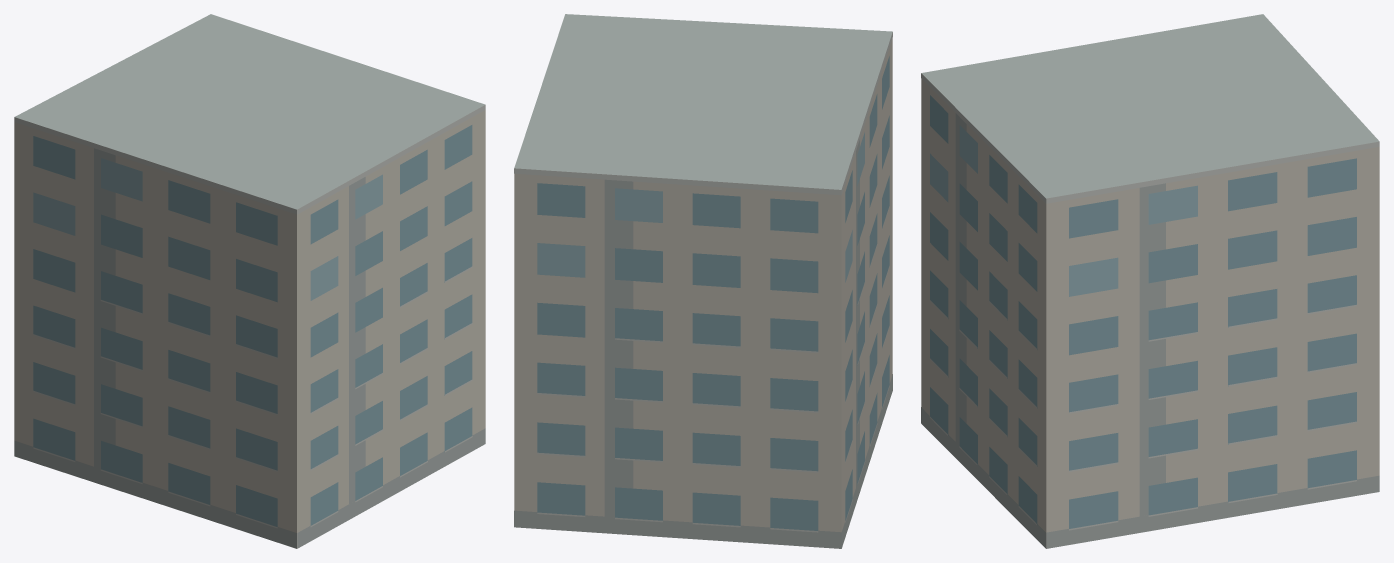
File: survey-upis-32965835.glb
3 renders of one model, left to right at view 1: azimuth 30°, elevation 25°; view 2: azimuth 150°, elevation 25°; view 3: azimuth 270°, elevation 25°, orthographic. The views are drawn at different scales.
Visible parts, largest first — view 1: survey-upis-32965835.tmp; view 2: survey-upis-32965835.tmp; view 3: survey-upis-32965835.tmp.
Boxes of the visible parts, x1,y1,x2,y2 form: survey-upis-32965835.tmp: (14, 14, 485, 548); survey-upis-32965835.tmp: (514, 14, 892, 548); survey-upis-32965835.tmp: (921, 14, 1379, 548).
Size of the model in its own units: 18.43 by 16.3 by 19.35.
